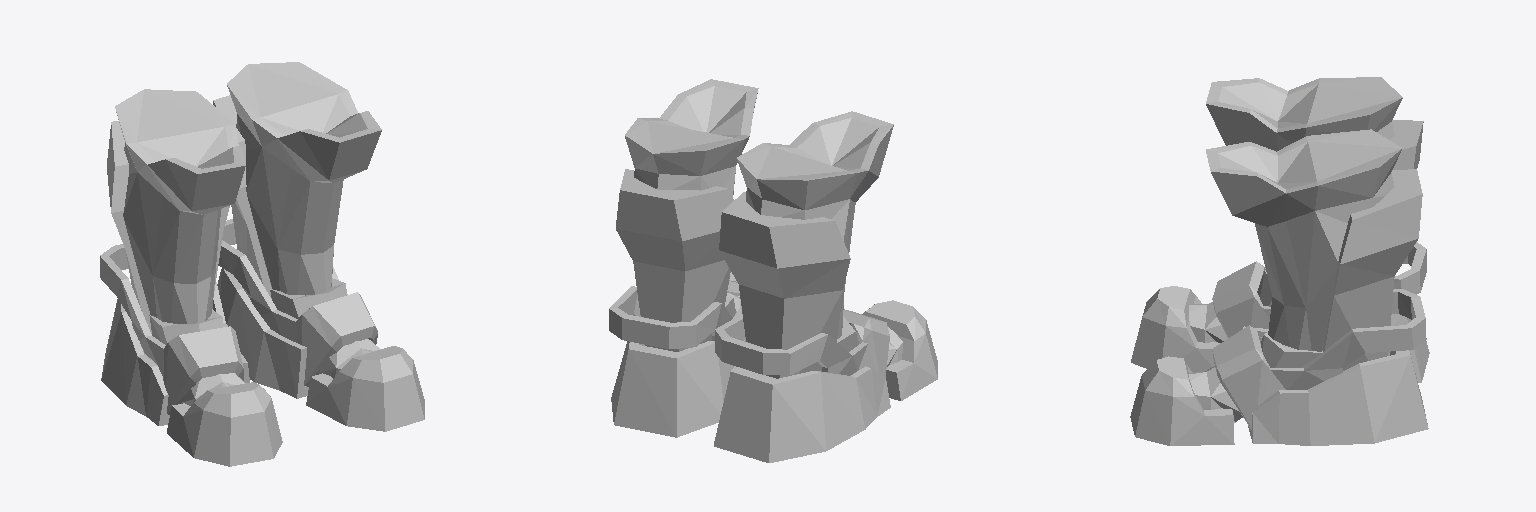
File: boots.obj
The picture shows the model from 3 angles: view 1: azimuth 30°, elevation 25°; view 2: azimuth 150°, elevation 25°; view 3: azimuth 270°, elevation 25°; orthographic projection.
Bounding box in the file's own units: 3.4 × 3.77 × 3.8.